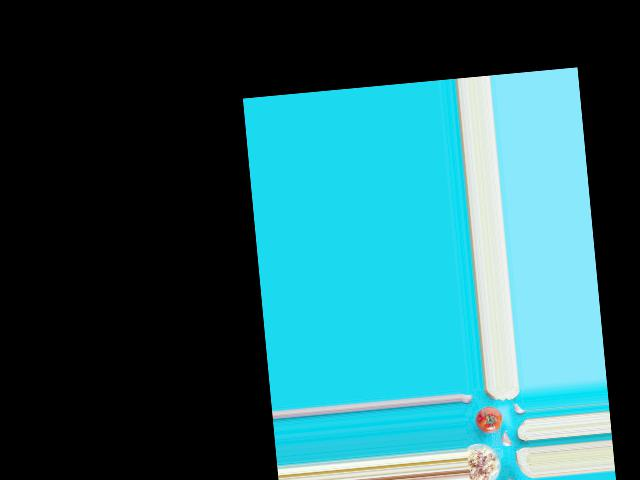tomato: (474, 405, 503, 432)
